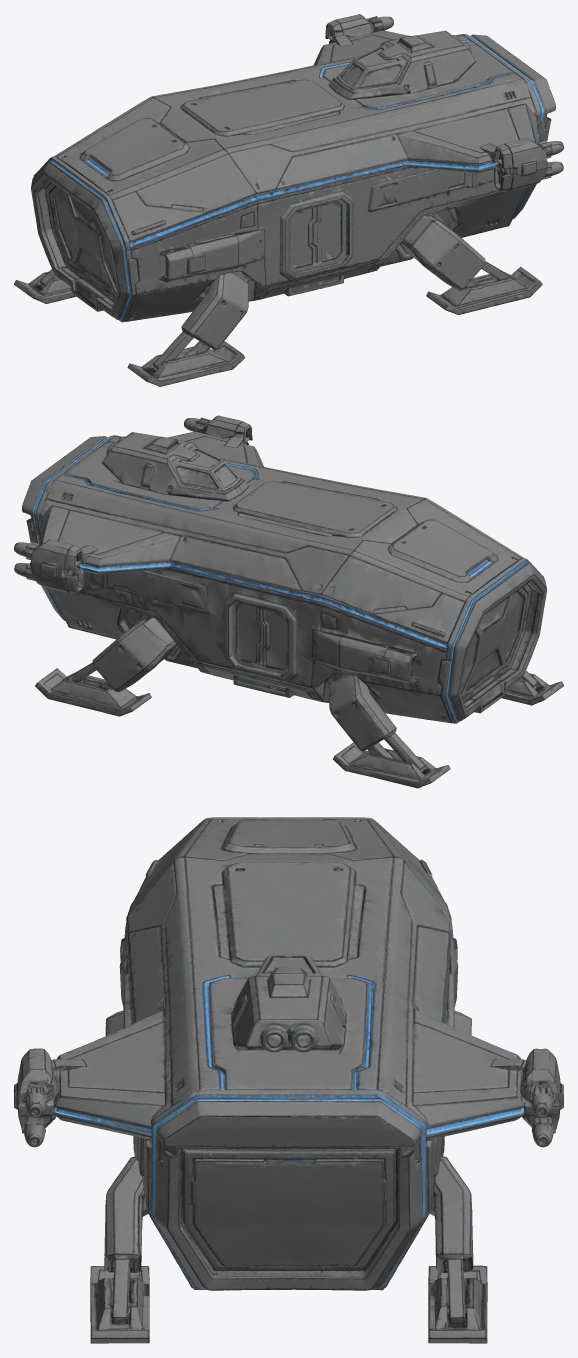
Rendered from drop_ship.glb.
The picture shows the model from 3 angles, top to bottom: view 1: azimuth 30°, elevation 25°; view 2: azimuth 150°, elevation 25°; view 3: azimuth 270°, elevation 25°; orthographic projection. The views are drawn at different scales.
Bounding box in the file's own units: 1.9 × 0.8973 × 1.36.
Materials: 1 (1 with a texture image).
